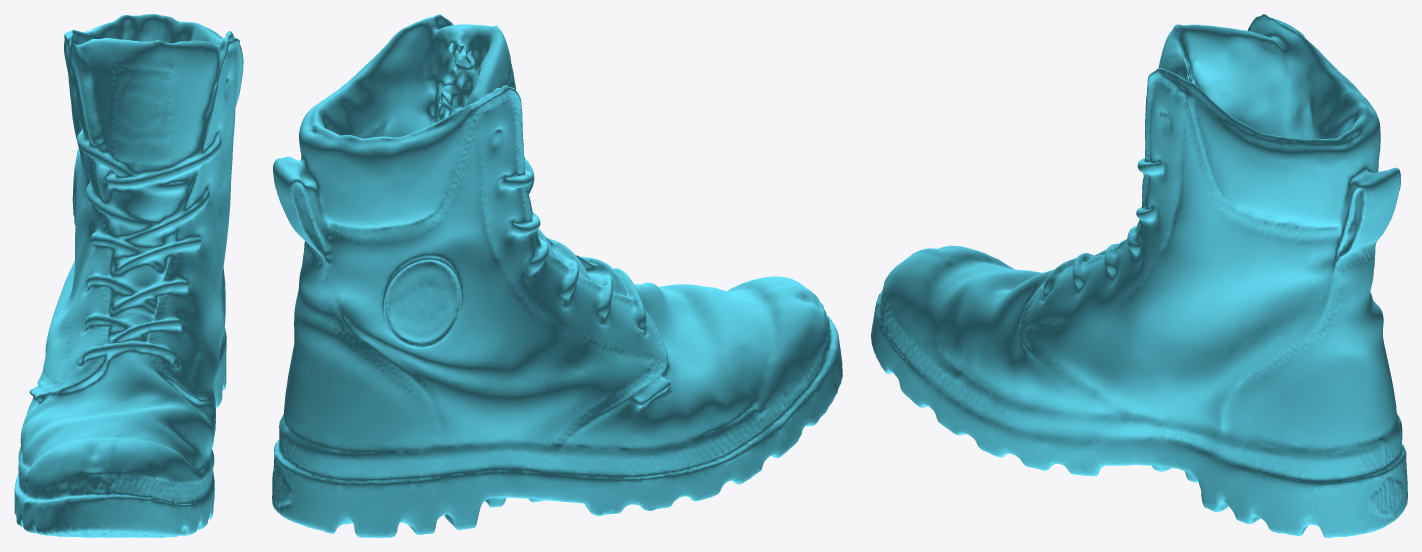
File: diamondboot.glb
The picture shows the model from 3 angles, left to right: view 1: azimuth 30°, elevation 25°; view 2: azimuth 150°, elevation 25°; view 3: azimuth 270°, elevation 25°; orthographic projection. The views are drawn at different scales.
Parts seen in each view (by area): view 1: Object_3.003; view 2: Object_3.003; view 3: Object_3.003.
Boxes of the visible parts, box(x1,y1,x2,y2) form: Object_3.003: box(14, 14, 243, 537); Object_3.003: box(272, 14, 842, 537); Object_3.003: box(871, 14, 1407, 537).
Size of the model in its own units: 0.4254 by 0.5018 by 0.5341.
